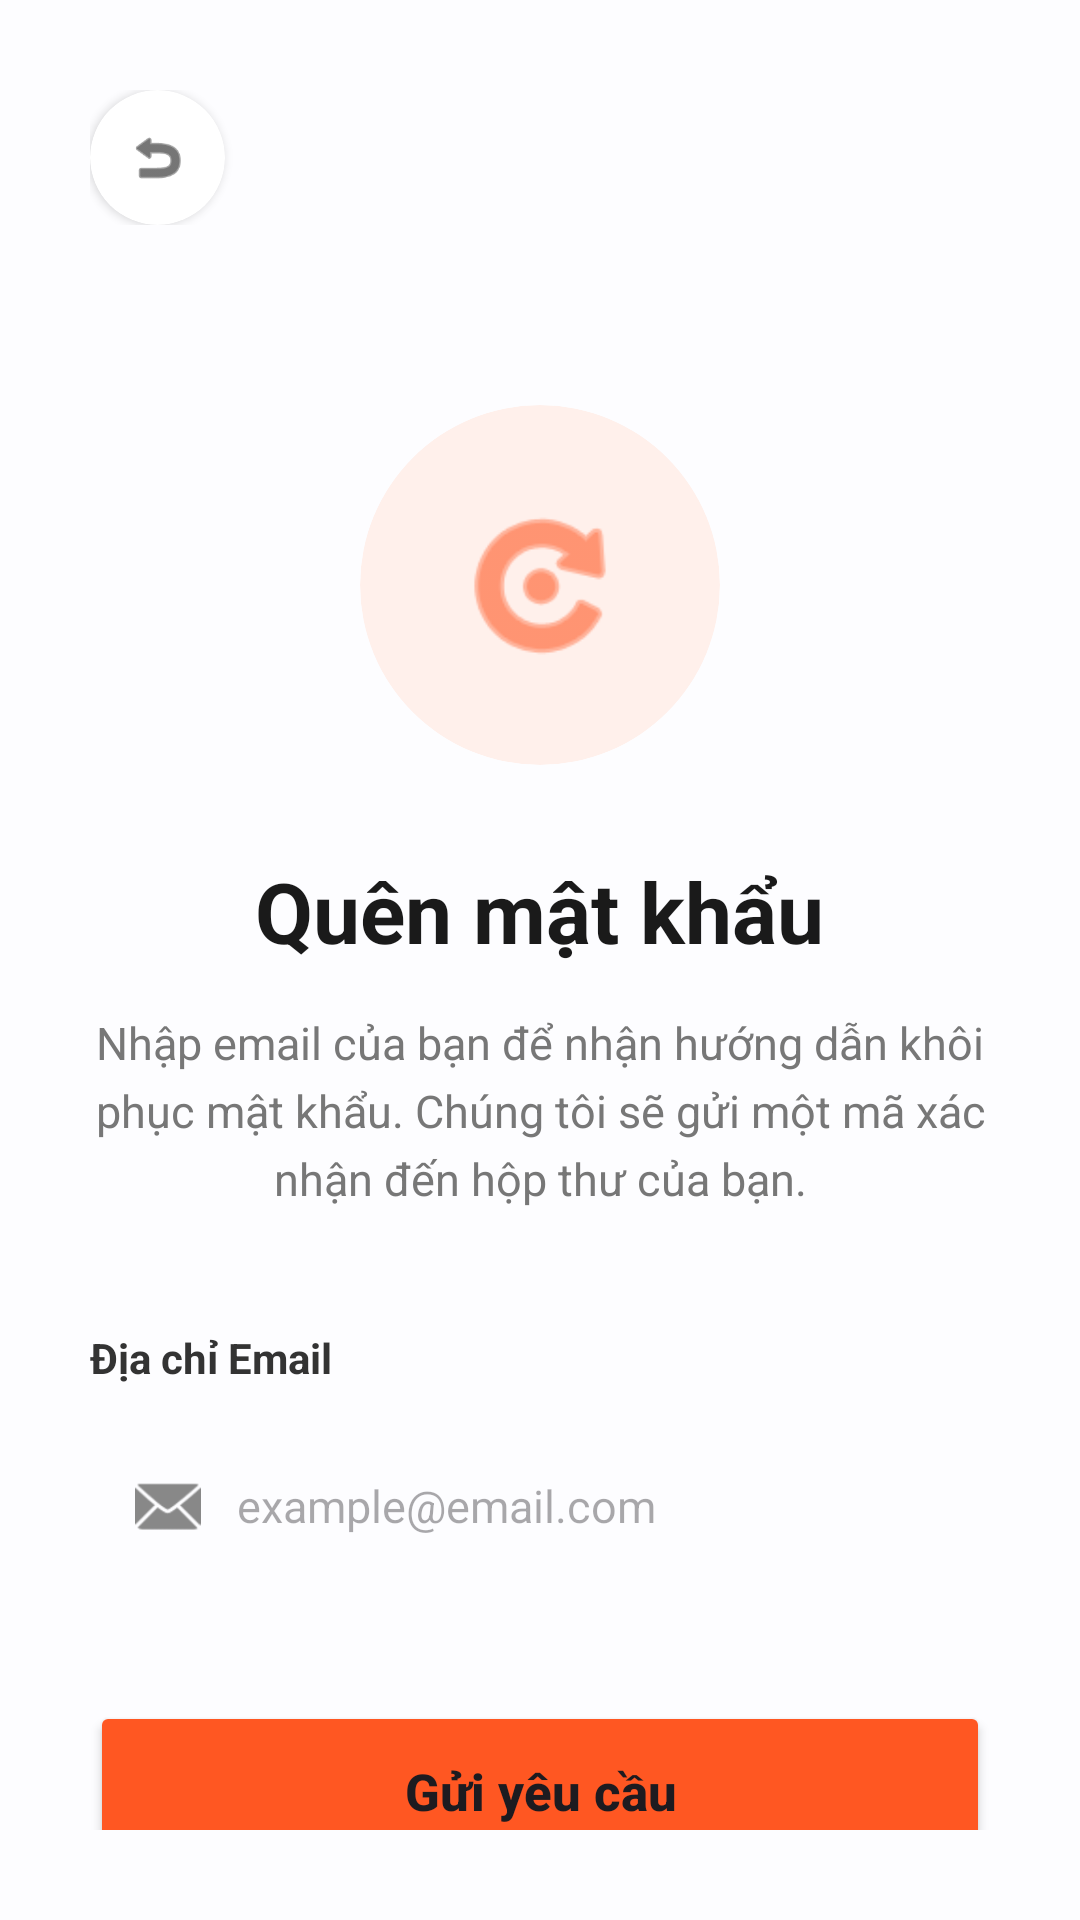

Point at icon controls on the screen. Image size 1080px×1920px, points as [x,y].
revert: [158,158]
rotate: [540,586]
